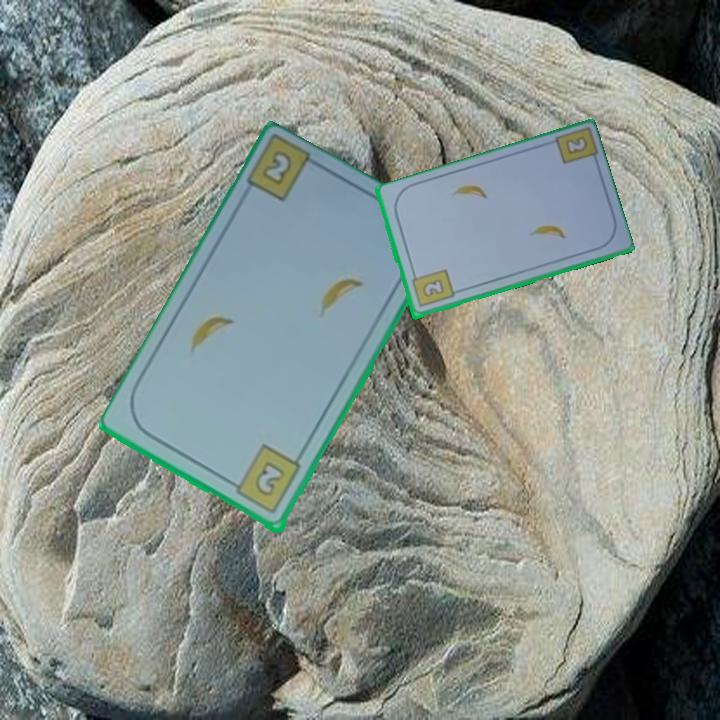2b: (226, 442, 304, 517), (408, 266, 456, 311), (258, 150, 296, 189), (564, 135, 588, 156)
